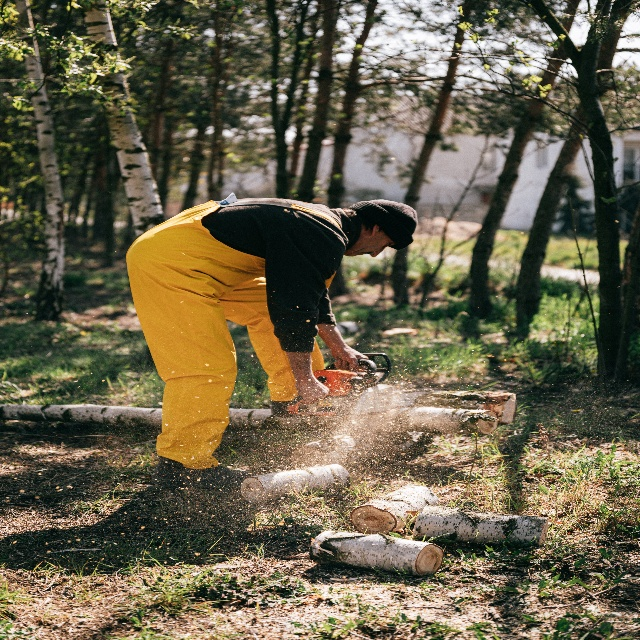Sin_guantes: (334, 340, 369, 372), (295, 376, 329, 405)
